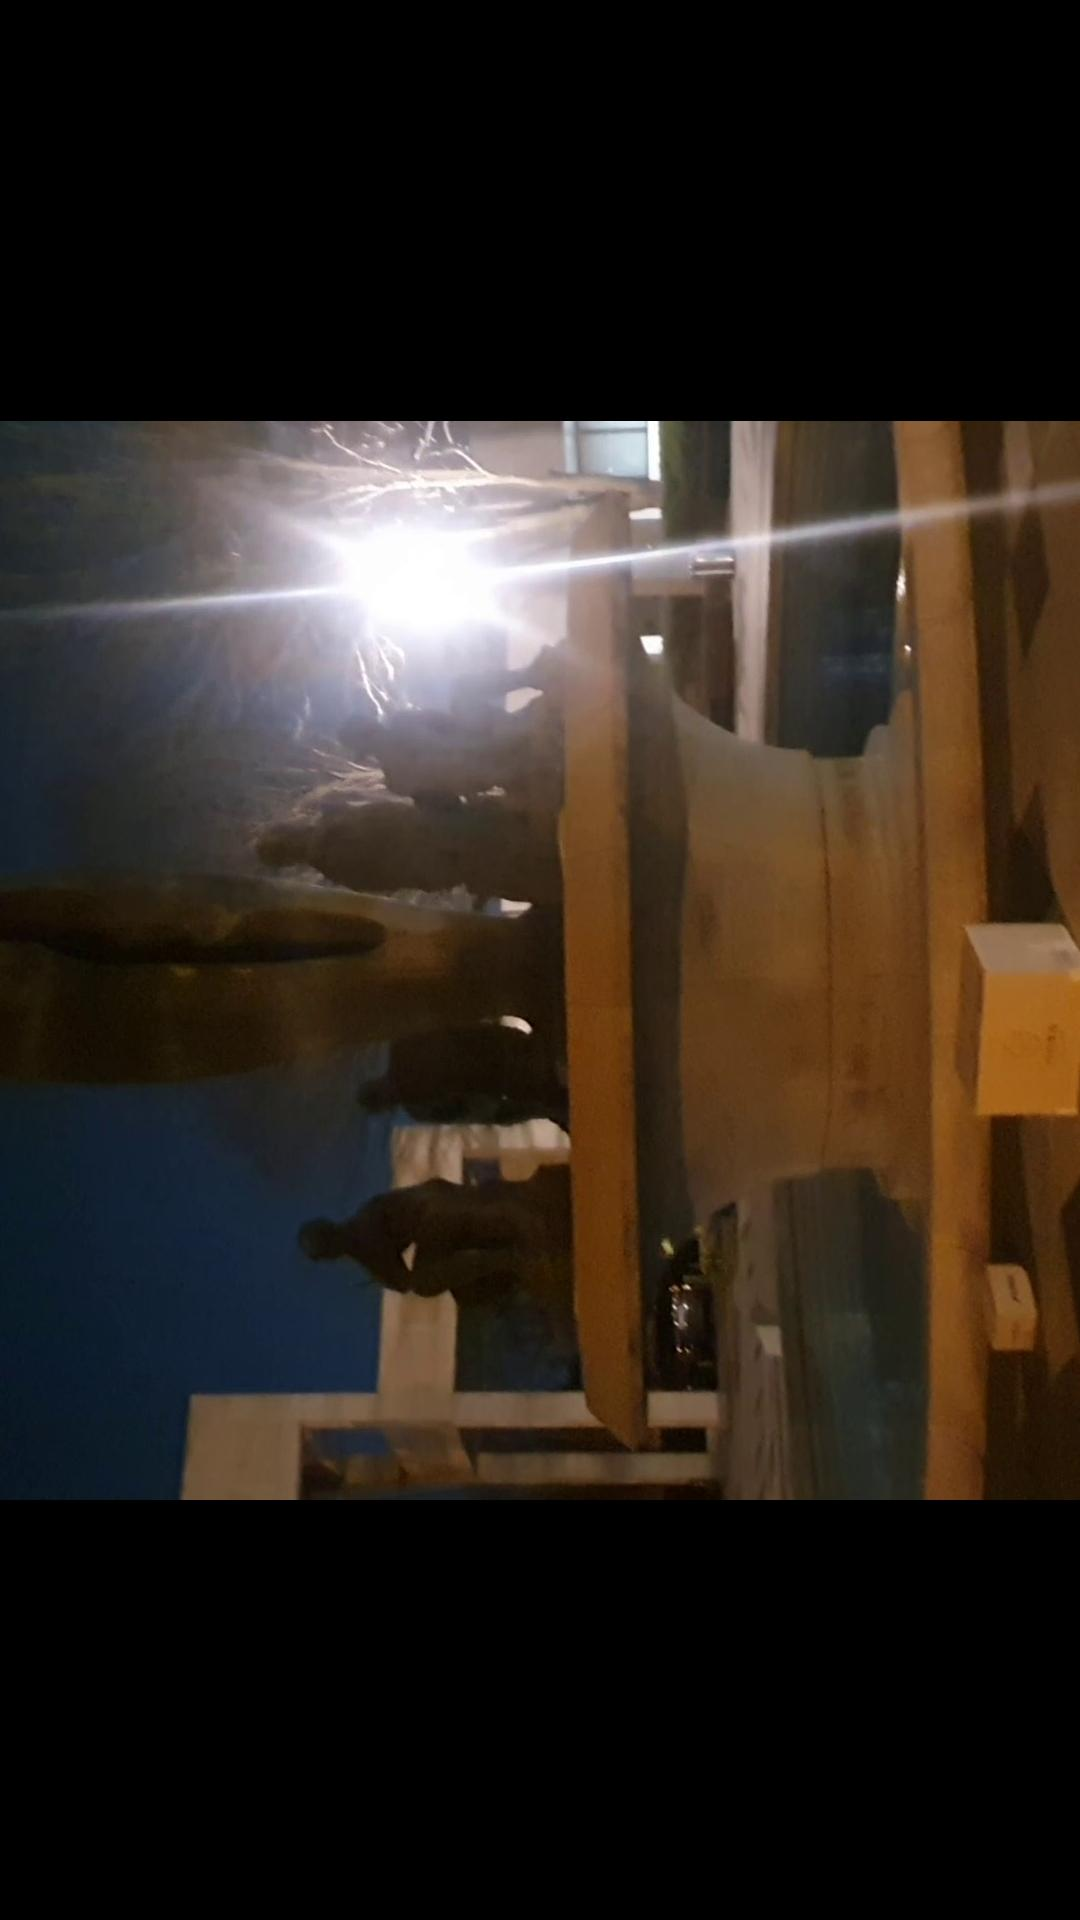Box: (945, 913, 1080, 1120), (965, 1250, 1042, 1379)
